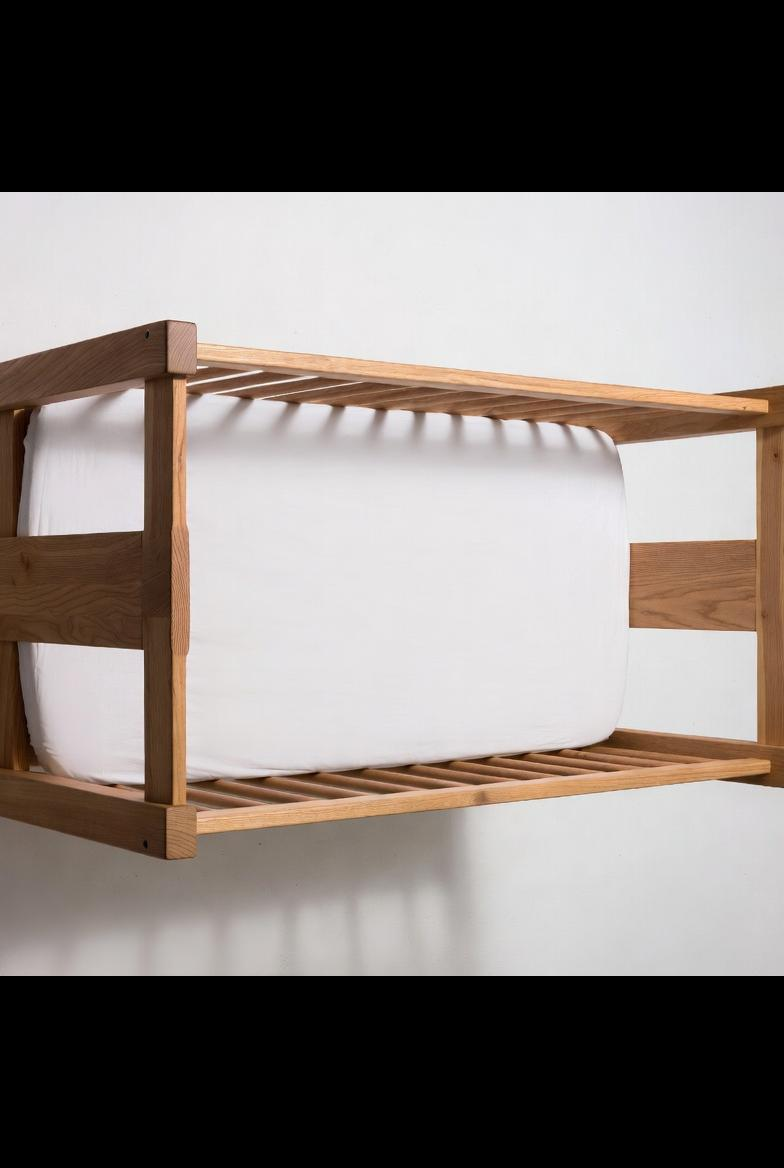crib: (0, 321, 784, 858)
